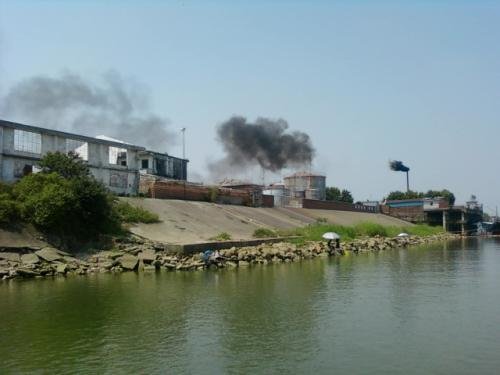smoke: (212, 114, 316, 169)
